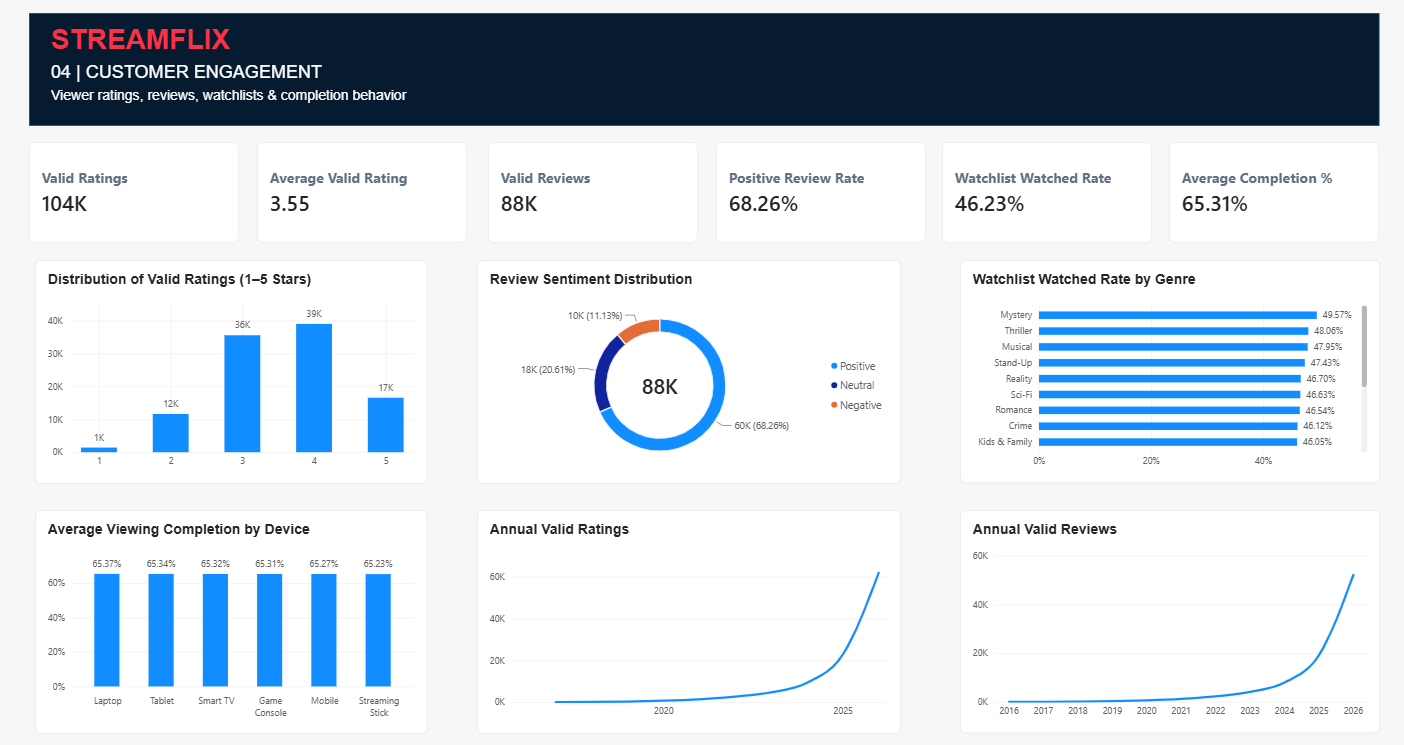

The dashboard page shown, as its layout file describes it:
{"tool":"powerbi","page":{"name":"04 Customer Engagement","canvas":[1920,1080],"ordinal":3},"visuals":[{"type":"clusteredColumnChart","title":"Distribution of Valid Ratings (1–5 Stars)","fields":{"Category":["ratings.rating"],"Y":["_Measures.Valid Ratings"]},"box":[78.1,359.5,521.6,297.7],"z":1000},{"type":"donutChart","title":"Review Sentiment Distribution","fields":{"Category":["reviews.sentiment"],"Y":["_Measures.Valid Reviews"]},"box":[666,359.5,564.4,297.7],"z":2000},{"type":"clusteredBarChart","title":"Watchlist Watched Rate by Genre","fields":{"Category":["titles.primary_genre"],"Y":["_Measures.Watchlist Watched Rate"]},"box":[1308.5,359.5,558.6,297.1],"z":3000},{"type":"clusteredColumnChart","title":"Average Viewing Completion by Device","fields":{"Category":["watch_history.device"],"Y":["_Measures.Average Completion %"]},"box":[78.1,691.1,521.6,297.7],"z":4000},{"type":"lineChart","title":"Annual Valid Ratings","fields":{"Category":["Date_Table.Year"],"Y":["_Measures.Valid Ratings by Rating Date"]},"box":[666,691.1,564.4,297.7],"z":5000},{"type":"lineChart","title":"Annual Valid Reviews","fields":{"Category":["Date_Table.Year"],"Y":["_Measures.Valid Reviews by Review Date"]},"box":[1308.5,691.1,558.6,297.1],"z":6000},{"type":"shape","box":[70.7,30.9,1796.2,150.3],"z":6001},{"type":"textbox","box":[100.2,44.2,499.5,50.1],"z":6002},{"type":"textbox","box":[100.2,94.3,402.3,95.8],"z":6003},{"type":"textbox","box":[100.2,110.5,791.3,159.1],"z":6004},{"type":"cardVisual","fields":{"Data":["_Measures.Valid Ratings"]},"box":[70.7,201.9,280,134.1],"z":6005},{"type":"cardVisual","fields":{"Data":["_Measures.Watchlist Watched Rate"]},"box":[1284.9,201.9,280,134.1],"z":6006},{"type":"cardVisual","fields":{"Data":["_Measures.Positive Review Rate"]},"box":[984.3,201.9,280,134.1],"z":6007},{"type":"cardVisual","fields":{"Data":["_Measures.Valid Reviews"]},"box":[680.8,201.9,280,134.1],"z":6008},{"type":"cardVisual","fields":{"Data":["_Measures.Average Valid Rating"]},"box":[374.3,201.9,280,134.1],"z":6009},{"type":"cardVisual","fields":{"Data":["_Measures.Average Completion %"]},"box":[1587,201.9,280,134.1],"z":6010}]}

Visuals, with their boxes on the page's 1920x1080 design canvas (x1, y1, x2, y2). These are canvas units, not pixel positions in the 1404x745 screenshot, which may show the page scaled, cropped or inside an application window:
"Distribution of Valid Ratings (1–5 Stars)" clusteredColumnChart: box(78, 360, 600, 657)
"Review Sentiment Distribution" donutChart: box(666, 360, 1230, 657)
"Watchlist Watched Rate by Genre" clusteredBarChart: box(1308, 360, 1867, 657)
"Average Viewing Completion by Device" clusteredColumnChart: box(78, 691, 600, 989)
"Annual Valid Ratings" lineChart: box(666, 691, 1230, 989)
"Annual Valid Reviews" lineChart: box(1308, 691, 1867, 988)
shape: box(71, 31, 1867, 181)
textbox: box(100, 44, 600, 94)
textbox: box(100, 94, 502, 190)
textbox: box(100, 110, 892, 270)
cardVisual - _Measures.Valid Ratings: box(71, 202, 351, 336)
cardVisual - _Measures.Watchlist Watched Rate: box(1285, 202, 1565, 336)
cardVisual - _Measures.Positive Review Rate: box(984, 202, 1264, 336)
cardVisual - _Measures.Valid Reviews: box(681, 202, 961, 336)
cardVisual - _Measures.Average Valid Rating: box(374, 202, 654, 336)
cardVisual - _Measures.Average Completion %: box(1587, 202, 1867, 336)
